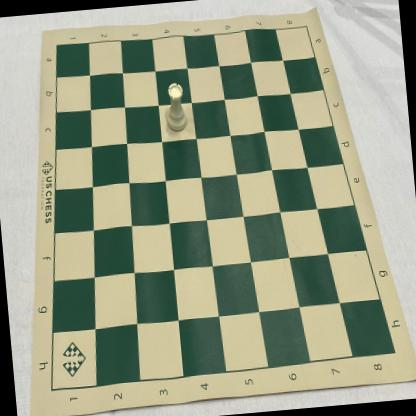rook: (162, 82, 188, 133)
